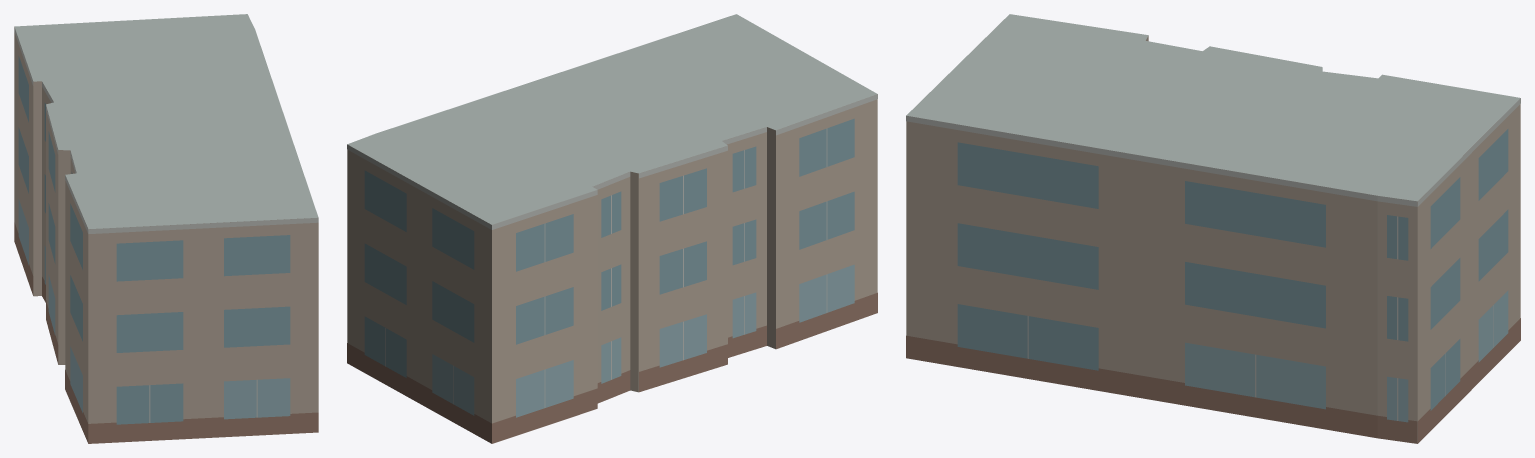
The model's file is survey-upis-32994297.glb.
3 views of the same model, side by side, from view 1: azimuth 30°, elevation 25°; view 2: azimuth 150°, elevation 25°; view 3: azimuth 270°, elevation 25° (orthographic). The views are drawn at different scales.
Parts seen in each view (by area): view 1: survey-upis-32994297.tmp; view 2: survey-upis-32994297.tmp; view 3: survey-upis-32994297.tmp.
Part boxes in pixels (left/top/right/bottom): survey-upis-32994297.tmp: left=14, top=14, right=318, bottom=443; survey-upis-32994297.tmp: left=347, top=14, right=877, bottom=443; survey-upis-32994297.tmp: left=906, top=14, right=1520, bottom=443.
Size of the model in its own units: 17.4 by 10.5 by 24.12.
